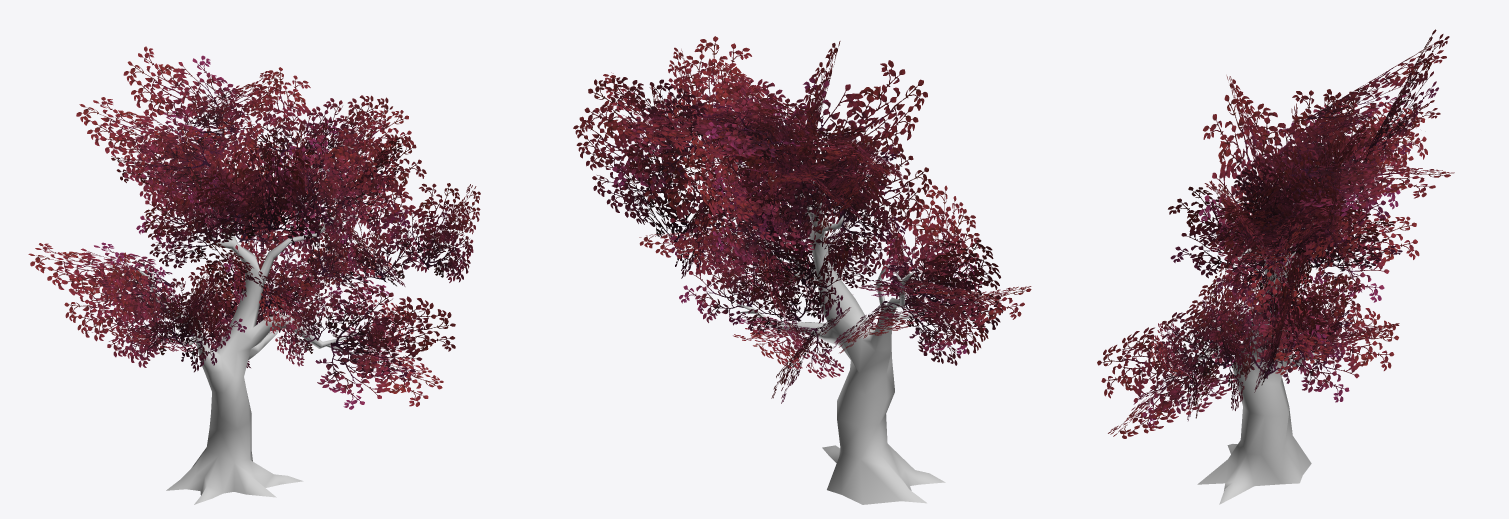
Rendered from SM_EN_2006_shu02.FBX.
3 renders of one model, left to right at view 1: azimuth 30°, elevation 25°; view 2: azimuth 150°, elevation 25°; view 3: azimuth 270°, elevation 25°, orthographic. The views are drawn at different scales.
Visible parts, largest first — view 1: SM_EN_2006_shu0202, SM_EN_2006_shu0201; view 2: SM_EN_2006_shu0202, SM_EN_2006_shu0201; view 3: SM_EN_2006_shu0202, SM_EN_2006_shu0201.
Boxes of the visible parts, bbox=[...] form: SM_EN_2006_shu0202: bbox=[28, 46, 480, 409]; SM_EN_2006_shu0201: bbox=[137, 207, 363, 504]; SM_EN_2006_shu0202: bbox=[573, 36, 1031, 403]; SM_EN_2006_shu0201: bbox=[736, 173, 945, 504]; SM_EN_2006_shu0202: bbox=[1097, 29, 1454, 438]; SM_EN_2006_shu0201: bbox=[1189, 214, 1319, 504].
Size of the model in its own units: 1161 by 960 by 784.
